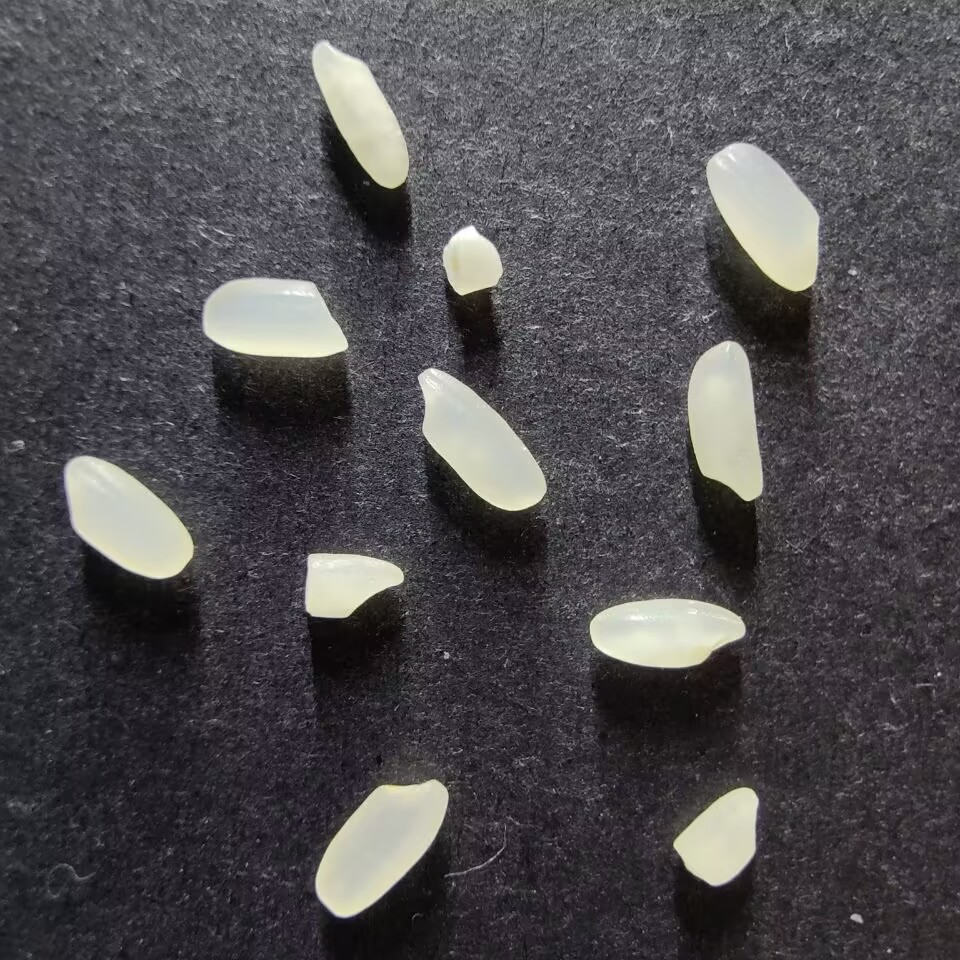broken: (669, 785, 759, 887), (303, 550, 407, 620), (440, 224, 504, 297)
rice: (313, 776, 451, 919), (415, 365, 548, 512), (705, 141, 822, 292), (62, 454, 195, 580), (310, 40, 412, 189), (685, 340, 766, 503), (200, 275, 350, 359), (588, 597, 747, 669)
